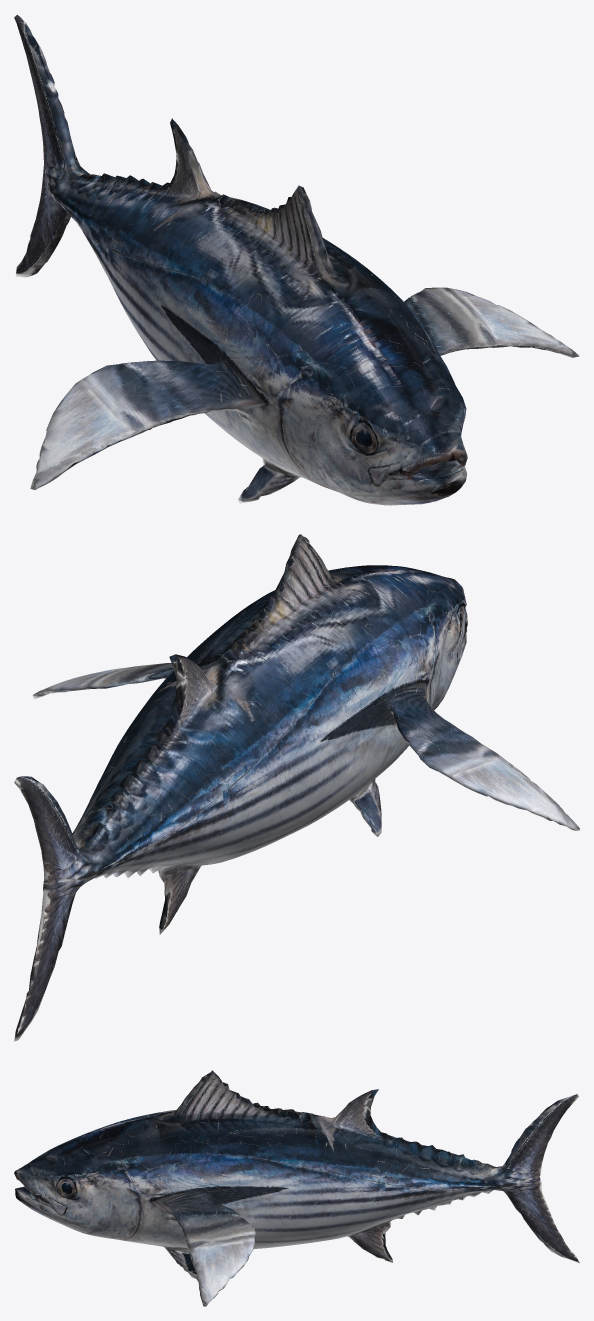
The model's file is fish_skipjack.glb.
The picture shows the model from 3 angles, top to bottom: view 1: azimuth 30°, elevation 25°; view 2: azimuth 150°, elevation 25°; view 3: azimuth 270°, elevation 25°; orthographic projection. The views are drawn at different scales.
Parts seen in each view (by area): view 1: geometry_0; view 2: geometry_0; view 3: geometry_0.
Boxes of the visible parts, x1,y1,x2,y2 form: geometry_0: (14,14,579,505); geometry_0: (14,534,579,1041); geometry_0: (14,1070,579,1306).
Size of the model in its own units: 1.41 by 0.7365 by 1.96.
Materials: 1 (1 with a texture image).
